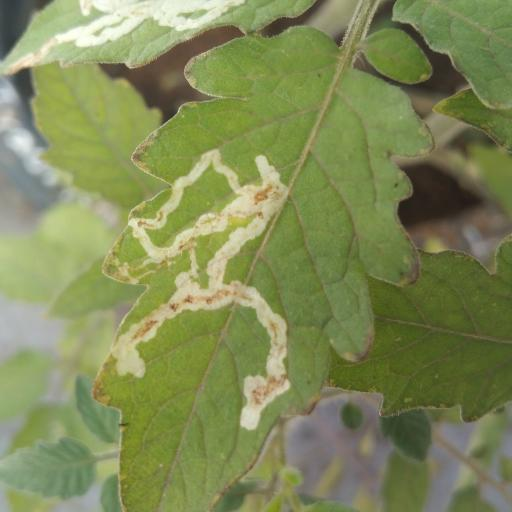Leaf_Miner: (91, 23, 432, 512), (0, 0, 272, 83)
